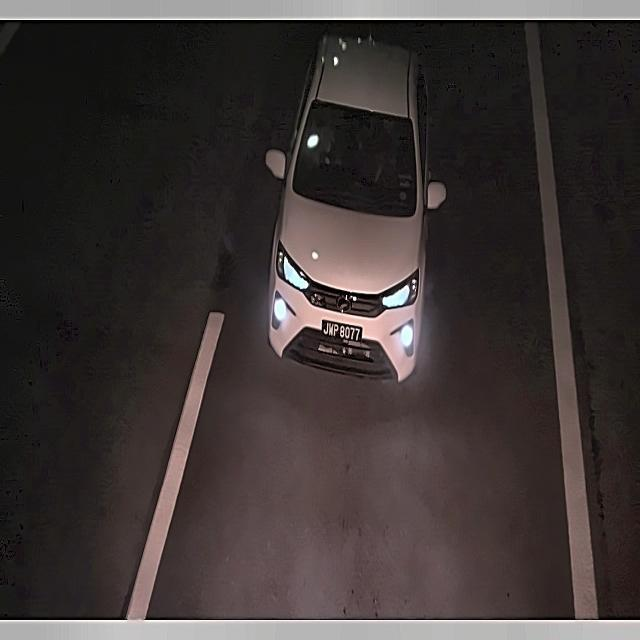car: (316, 313, 368, 351)
